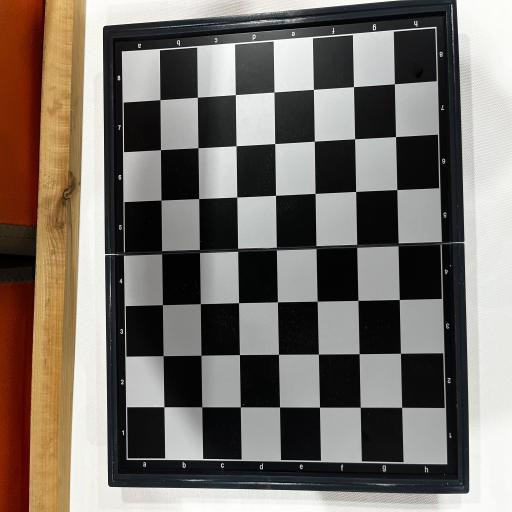Board: (101, 0, 472, 494)
